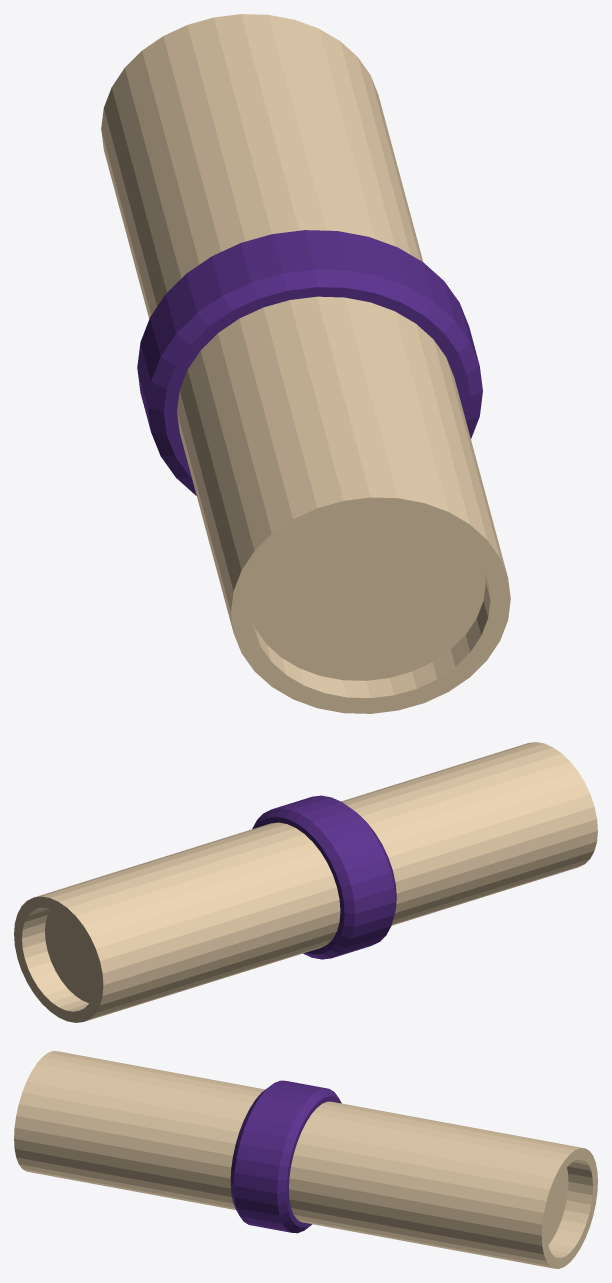
The model's file is Scroll.fbx.
3 views of the same model, one above another, from view 1: azimuth 30°, elevation 25°; view 2: azimuth 150°, elevation 25°; view 3: azimuth 270°, elevation 25° (orthographic). The views are drawn at different scales.
Visible parts, largest first — view 1: Cube.001; view 2: Cube.001; view 3: Cube.001.
Boxes of the visible parts, <box> form: Cube.001: <box>101,14,510,713</box>; Cube.001: <box>14,742,597,1022</box>; Cube.001: <box>14,1051,597,1268</box>.
Size of the model in its own units: 72.18 by 28.76 by 117.
